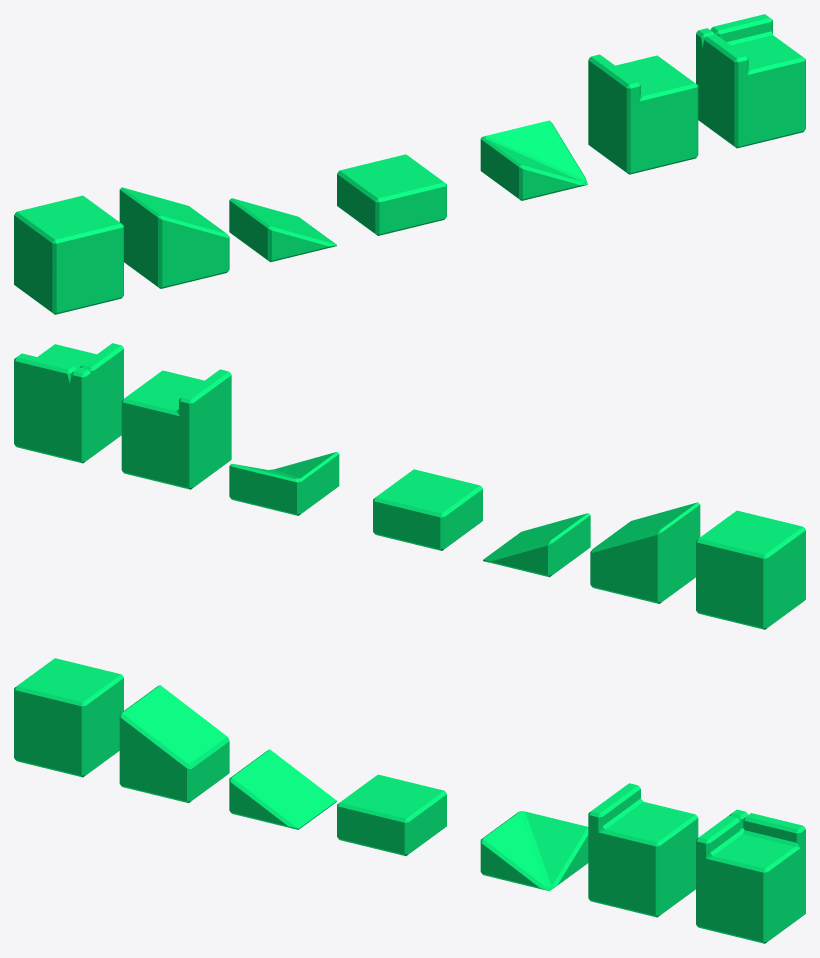
The model's file is world_blocks.glb.
The picture shows the model from 3 angles, top to bottom: view 1: azimuth 30°, elevation 25°; view 2: azimuth 150°, elevation 25°; view 3: azimuth 330°, elevation 25°; orthographic projection.
Parts seen in each view (by area): view 1: BlockWallCorner, BlockWall, Block, RampTop, ShortBlock, RampLowerCover, RampBottom; view 2: BlockWallCorner, BlockWall, Block, RampTop, ShortBlock, RampLowerCover, RampBottom; view 3: BlockWallCorner, BlockWall, Block, RampTop, ShortBlock, RampLowerCover, RampBottom.
Part boxes in pixels (box(x1,y1,x2,y2)): BlockWallCorner: box(696, 14, 805, 148); BlockWall: box(588, 54, 698, 174); Block: box(14, 195, 123, 314); RampTop: box(119, 187, 229, 288); ShortBlock: box(337, 154, 446, 235); RampLowerCover: box(480, 120, 587, 200); RampBottom: box(229, 198, 336, 262); BlockWallCorner: box(14, 343, 123, 463); BlockWall: box(121, 369, 231, 489); Block: box(696, 510, 805, 629); RampTop: box(590, 502, 700, 603); ShortBlock: box(373, 469, 482, 550); RampLowerCover: box(229, 452, 339, 515); RampBottom: box(483, 513, 590, 577); BlockWallCorner: box(696, 809, 805, 943); BlockWall: box(588, 783, 698, 917); Block: box(14, 658, 123, 777); RampTop: box(119, 685, 229, 802); ShortBlock: box(337, 774, 446, 855); RampLowerCover: box(480, 811, 588, 891); RampBottom: box(229, 749, 336, 829).
Size of what is drawn, in the model's own units: 21 by 2.4 by 2.
